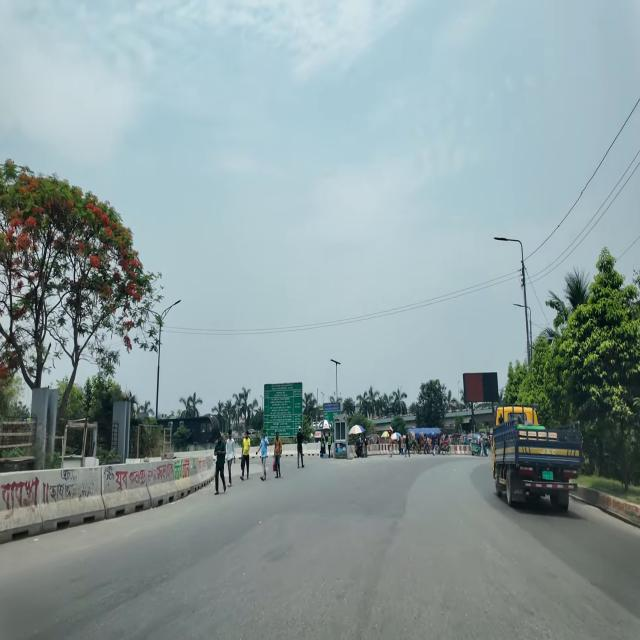person: (296, 427, 305, 468)
